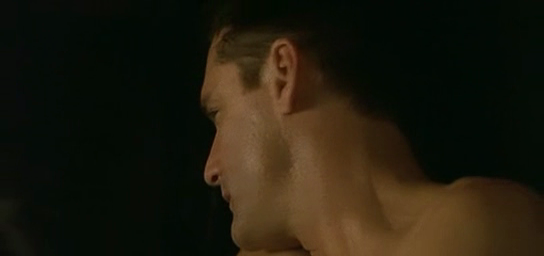ecu: (1, 1, 544, 256)
face: (199, 45, 279, 256)
person: (200, 1, 544, 256)
